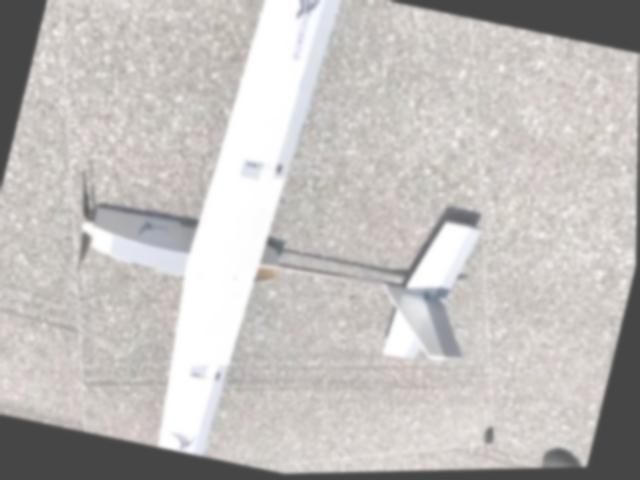insansiz-hava-araci: (0, 0, 561, 480)
